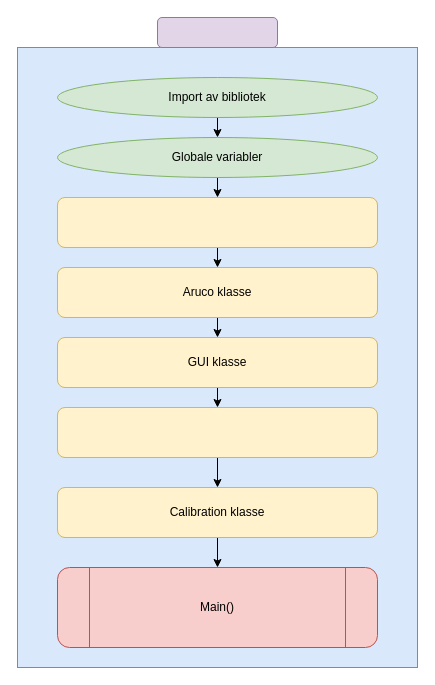
The diagram is 435 pixels wide and 685 high, and some of its shapes have lost their labels. The shapes that lost their labels are listed below. From the top down, each one's centre as x and y in pixels, then its label:
At point (217, 32): "Program Struktur".
At point (217, 222): "Tracker klasse".
At point (217, 432): "Client socket klasse".
